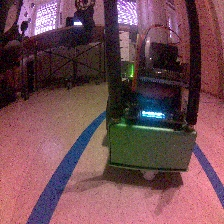rob: (105, 41, 197, 180)
